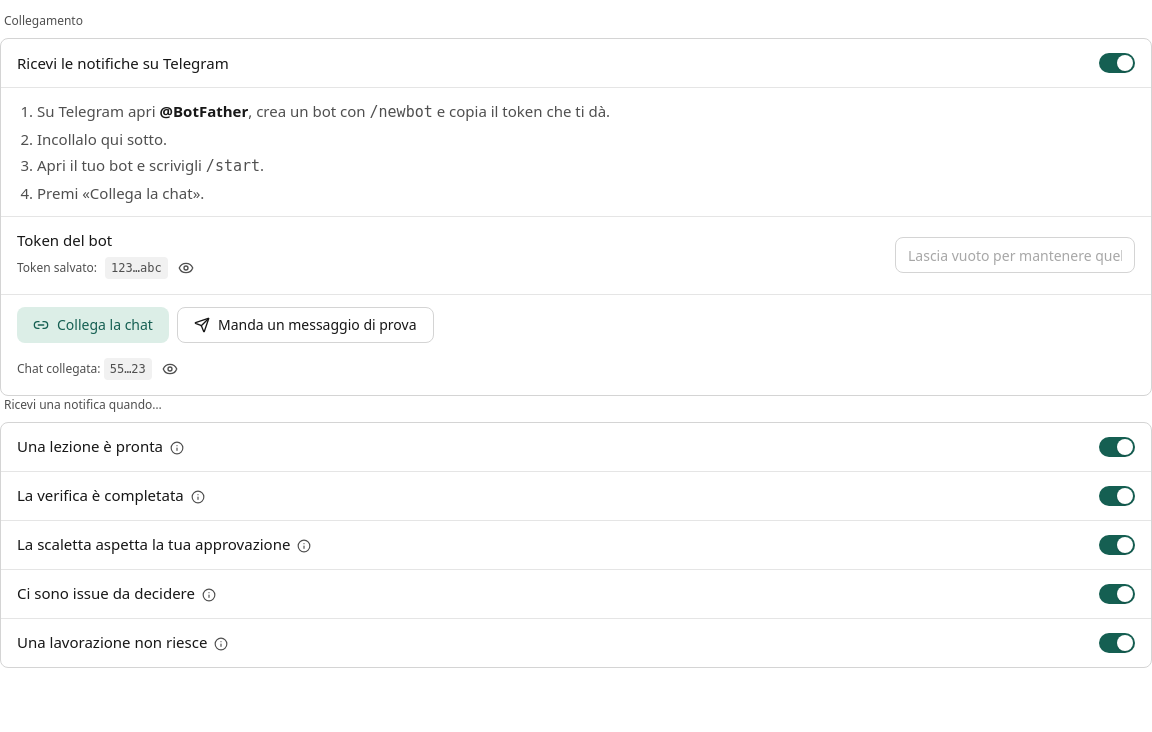
Telegram: notifiche nella chat personale › con token e chat salvati la prova è attiva
Expected: the element with test id "telegram-chat" reads "Chat collegata: 55…23", [17,354,184,382]
What coordinates should you click on to do the following:
click the button "Manda un messaggio di prova"
I would click on:
 (305, 324)
Its box is [177,306,434,342].
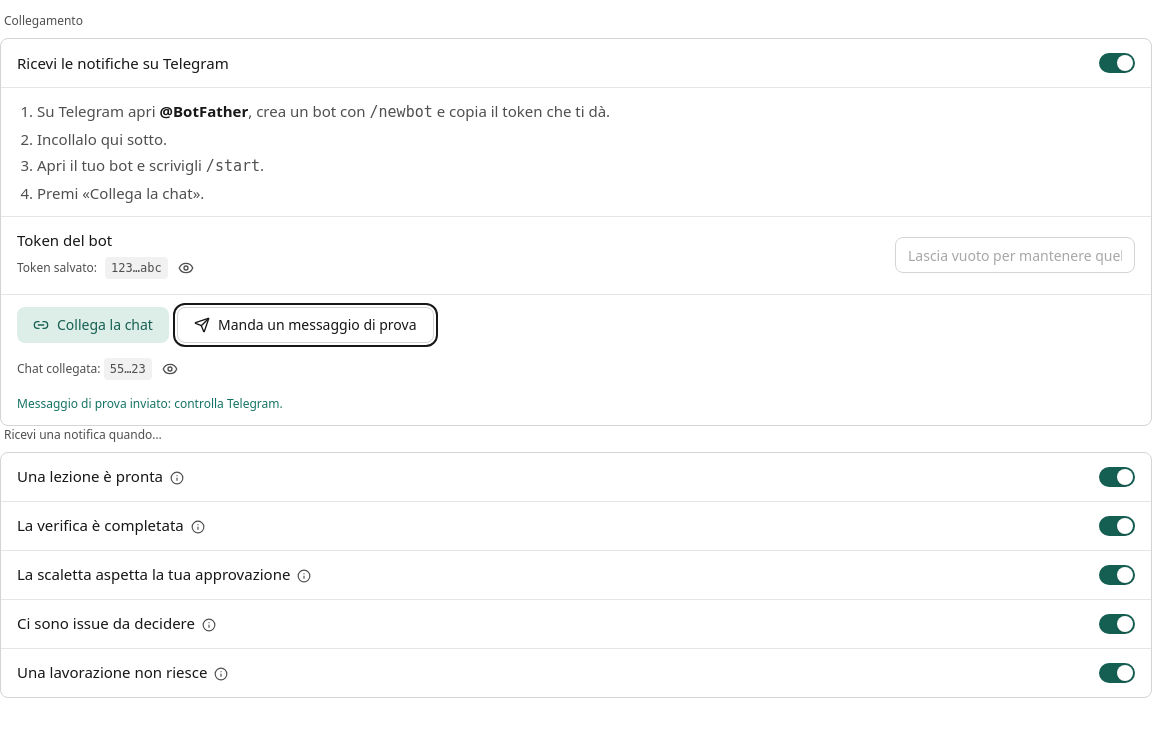
Expected: the message with test id "telegram-test-result" shows "controlla Telegram", [17,394,283,412]
